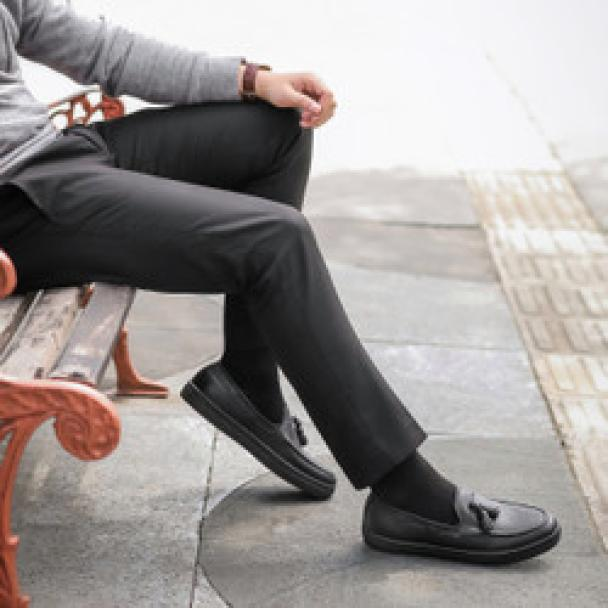Sepatu: (170, 345, 347, 514), (360, 489, 569, 569)
